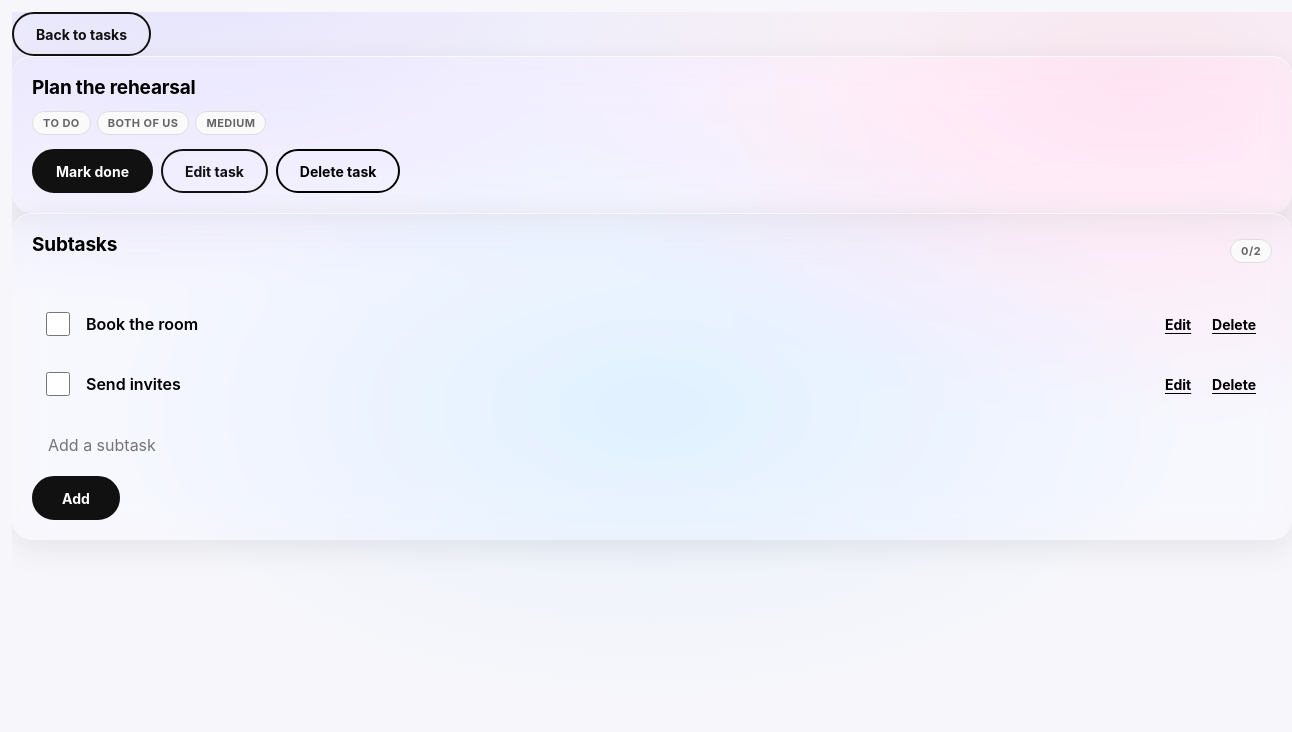
Scenario: subtasks › updates the progress when a subtask is ticked
The image size is (1292, 732).
Expected: the text named "0 of 2 done" is shown, [1230, 238, 1272, 262]
Click the checkbox named "Mark subtask \"Book the room\" done".
click(58, 324)  # box [46, 312, 70, 336]
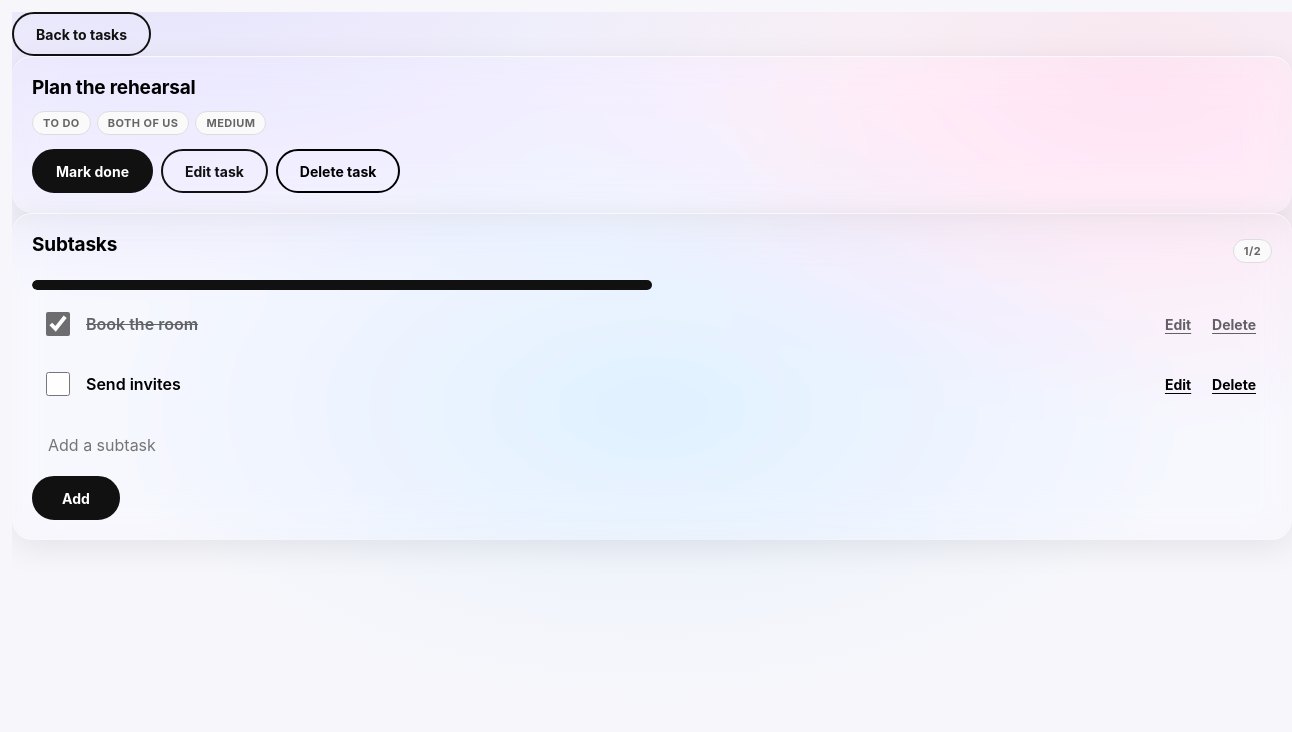
Now the text named "1 of 2 done" is shown, box [1233, 238, 1272, 262]
